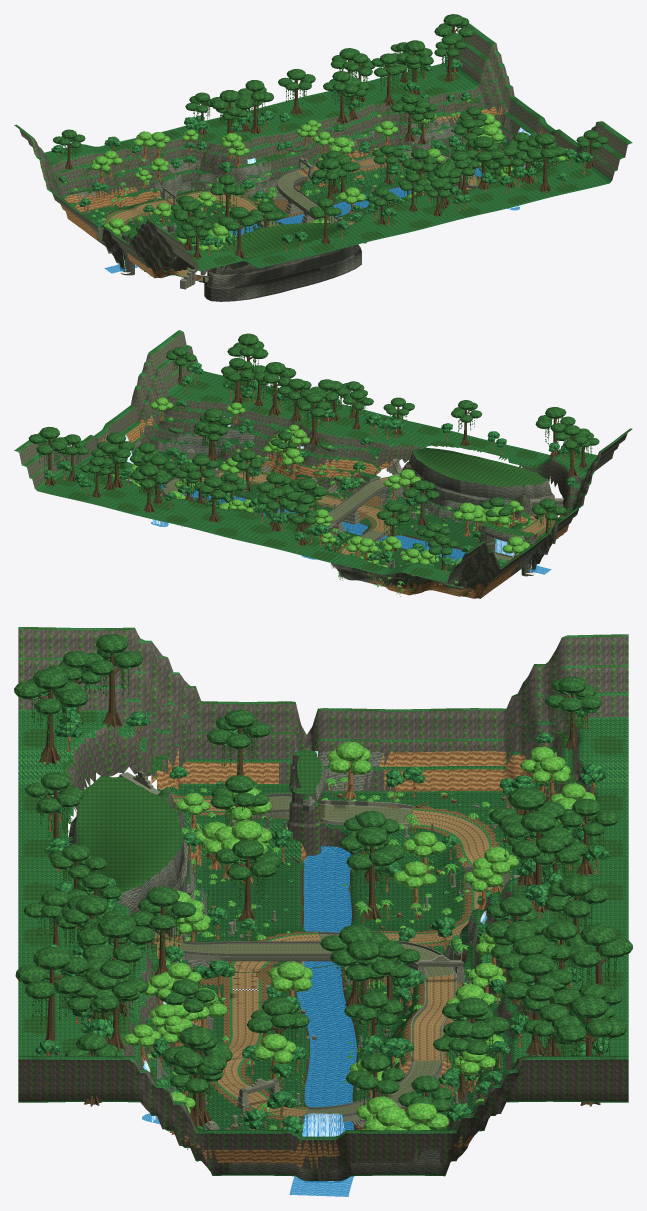
3 renders of one model, top to bottom at view 1: azimuth 30°, elevation 25°; view 2: azimuth 150°, elevation 25°; view 3: azimuth 270°, elevation 25°, orthographic. The views are drawn at different scales.
Parts seen in each view (by area): view 1: Canyon, Tunnel Rock, Giant Tree 2.007, Road 04 viaduct, Giant Tree 1.014, River, Road 11 path, Giant Tree 1.009, Giant Tree 1.015, Giant Tree 2.012, Giant Tree 2.013, Giant Tree 0.016 (+25 smaller); view 2: Canyon, Tunnel Rock, River, Giant Tree 2.006, Giant Tree 1.014, Road 04 viaduct, Giant Tree 0.016, Giant Tree 0.009, Giant Tree 2.011, Giant Tree 1.009, Giant Tree 2.012, Giant Tree 2.007 (+30 smaller); view 3: Canyon, River, Tunnel Rock, Road 04 viaduct, Giant Tree 2.007, Road 01 path, Giant Tree 1.009, Giant Tree 2.006, Road 11 path, Giant Tree 1.014, Giant Tree 2, Giant Tree 2.012 (+56 smaller).
Part boxes in pixels (x1,y1,x2,y2): Canyon: (14,23,632,278); Tunnel Rock: (204,222,361,301); Giant Tree 2.007: (526,133,566,192); Road 04 viaduct: (276,169,337,221); Giant Tree 1.014: (465,136,505,189); River: (104,167,481,273); Road 11 path: (106,191,257,222); Giant Tree 1.009: (218,207,257,258); Giant Tree 1.015: (210,90,252,133); Giant Tree 2.012: (396,40,433,95); Giant Tree 2.013: (371,53,406,106); Giant Tree 0.016: (278,69,315,114); Canyon: (14,330,632,598); Tunnel Rock: (402,447,557,519); River: (129,480,551,574); Giant Tree 2.006: (28,426,68,486); Giant Tree 1.014: (253,362,296,417); Road 04 viaduct: (310,478,388,528); Giant Tree 0.016: (194,476,233,522); Giant Tree 0.009: (130,464,168,513); Giant Tree 2.011: (296,392,331,445); Giant Tree 1.009: (535,407,575,457); Giant Tree 2.012: (97,432,134,488); Giant Tree 2.007: (227,333,268,390); Canyon: (18,627,628,1181); River: (289,846,356,1196); Tunnel Rock: (68,775,191,950); Road 04 viaduct: (178,940,455,977); Giant Tree 2.007: (15,946,88,1056); Road 01 path: (214,990,308,1117); Giant Tree 1.009: (14,668,88,765); Giant Tree 2.006: (551,995,627,1106); Road 11 path: (380,808,503,944); Giant Tree 1.014: (77,915,154,1017); Giant Tree 2: (339,826,404,920); Giant Tree 2.012: (501,954,573,1056).
Size of the model in its own units: 525 by 117 by 335.
Materials: 35 (35 with a texture image).
